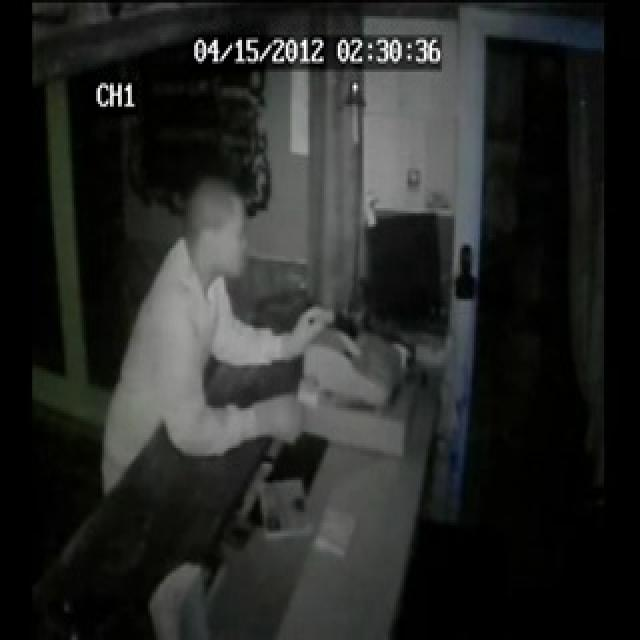thief: (159, 131, 269, 344)
